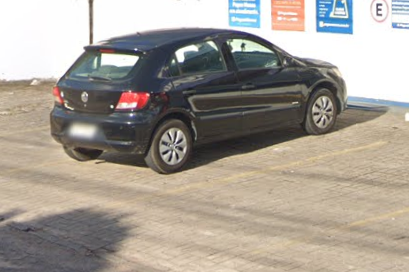car: (48, 26, 348, 175)
